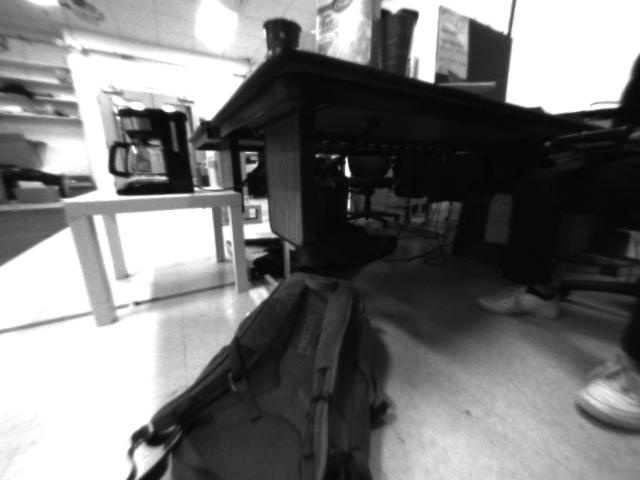coffee_pot: (97, 105, 199, 195)
